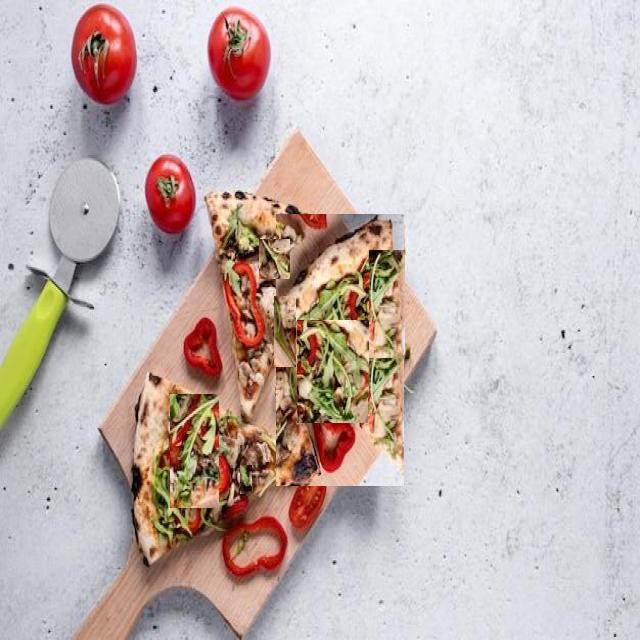basil: (297, 320, 369, 423), (170, 394, 219, 508), (145, 460, 192, 546), (369, 250, 405, 358), (224, 206, 260, 256), (274, 296, 296, 367), (372, 358, 398, 408), (259, 239, 290, 279), (344, 397, 372, 427), (240, 465, 252, 494)
pizza: (133, 365, 302, 573), (276, 214, 404, 486), (205, 185, 322, 429)
